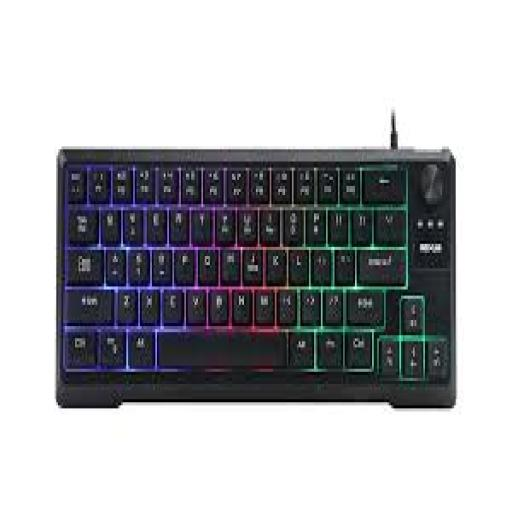KEYBOARD-2: (58, 140, 454, 402)
